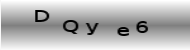6: (134, 19, 150, 34)
D: (33, 8, 50, 23)
Q: (61, 18, 81, 36)
e: (115, 25, 132, 38)
y: (85, 21, 99, 37)
